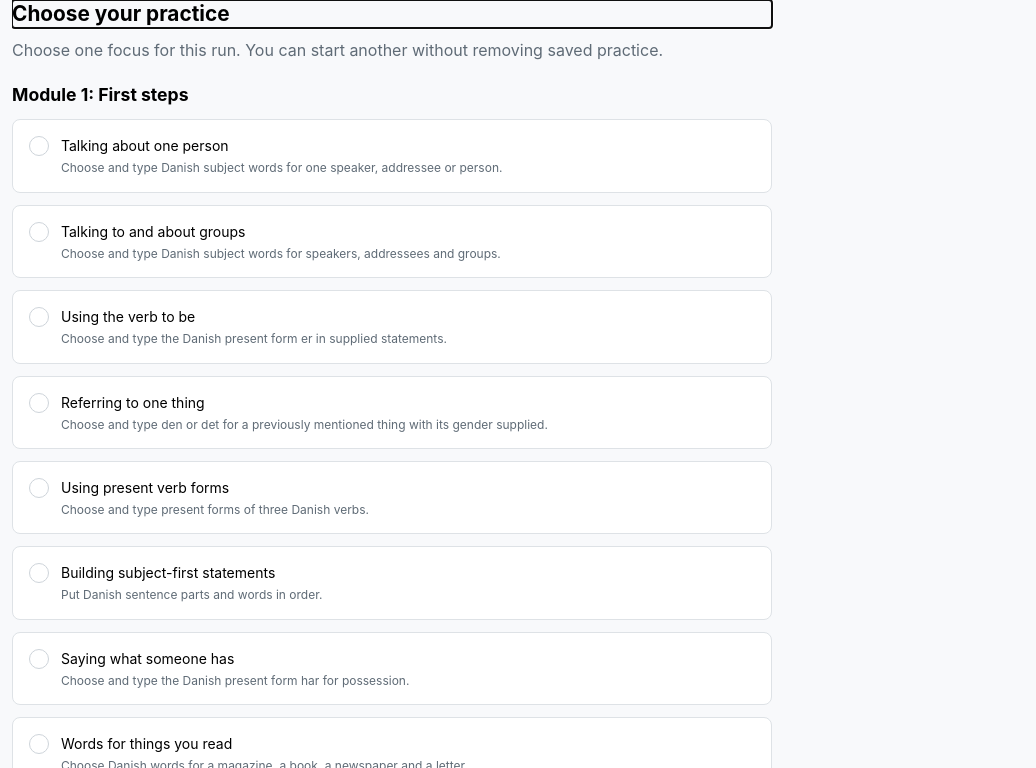
it: creates Using the verb to be only after its exact catalog choice
The image size is (1036, 768).
Expected: the heading "Module 1: First steps" is shown, [12,84,188,105]
Click the radio button labelled "Using the verb to be". click: coordinates (39, 317)
box: [29,307,49,327]
(page scrolled)
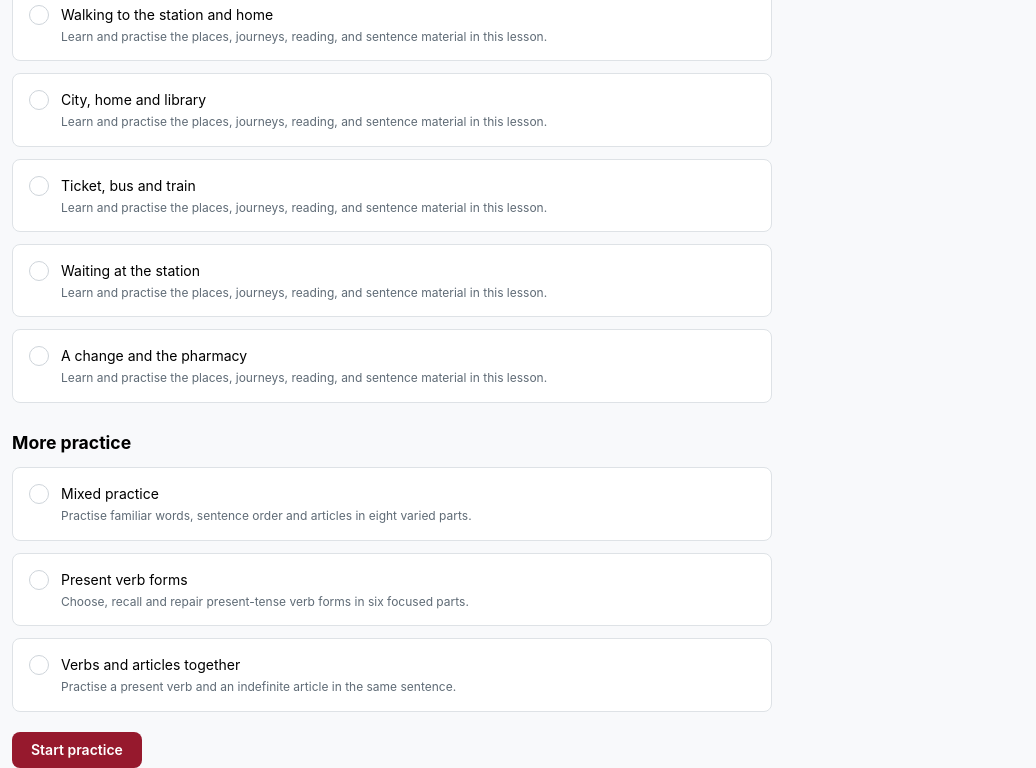
Click the button "Start practice". click: coordinates (77, 750)
box: [12,732,142,767]
(page scrolled)
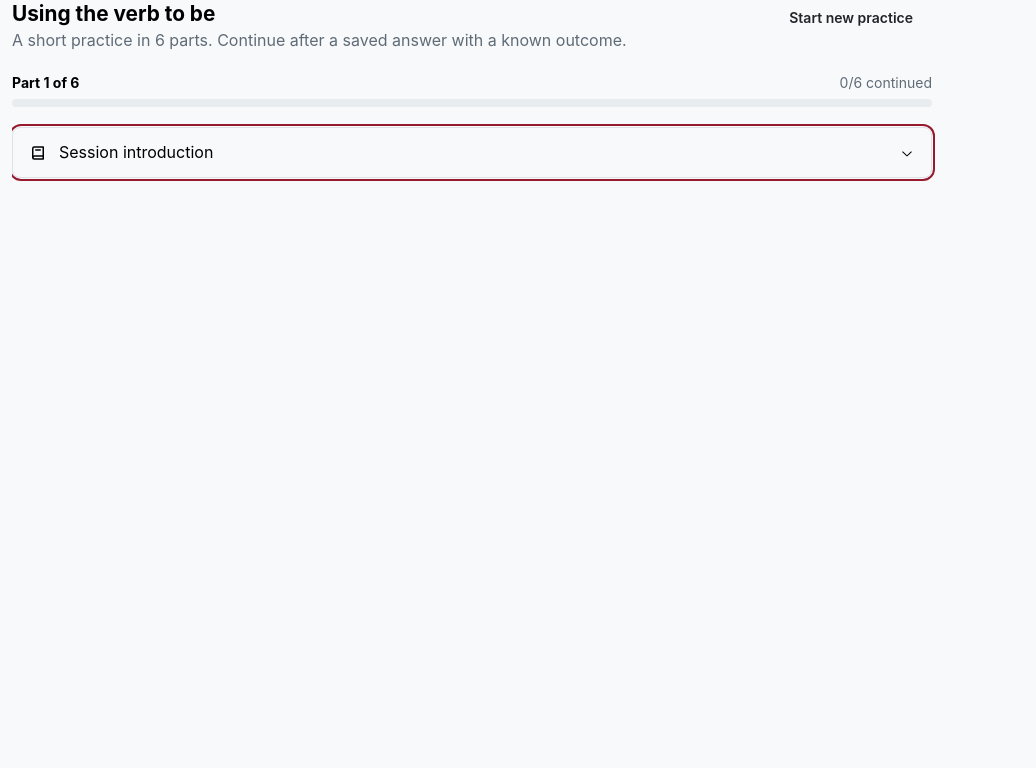
Expected: the heading "Using the verb to be" is shown, [12,1,215,26]
